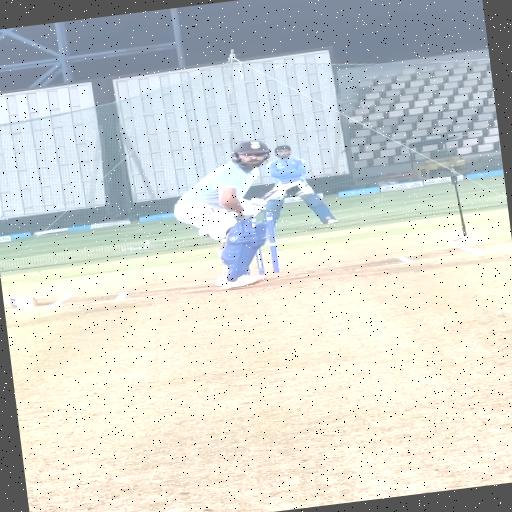Cricket bat: (261, 181, 299, 201)
